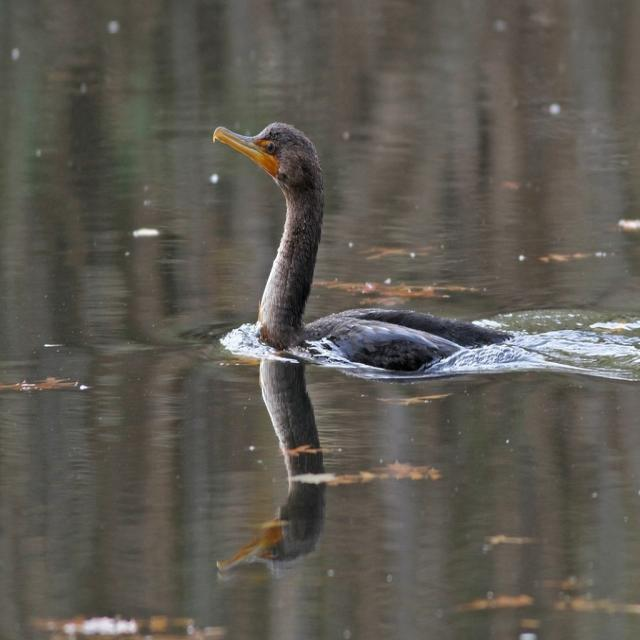bird: (206, 126, 509, 372), (219, 486, 331, 578)
